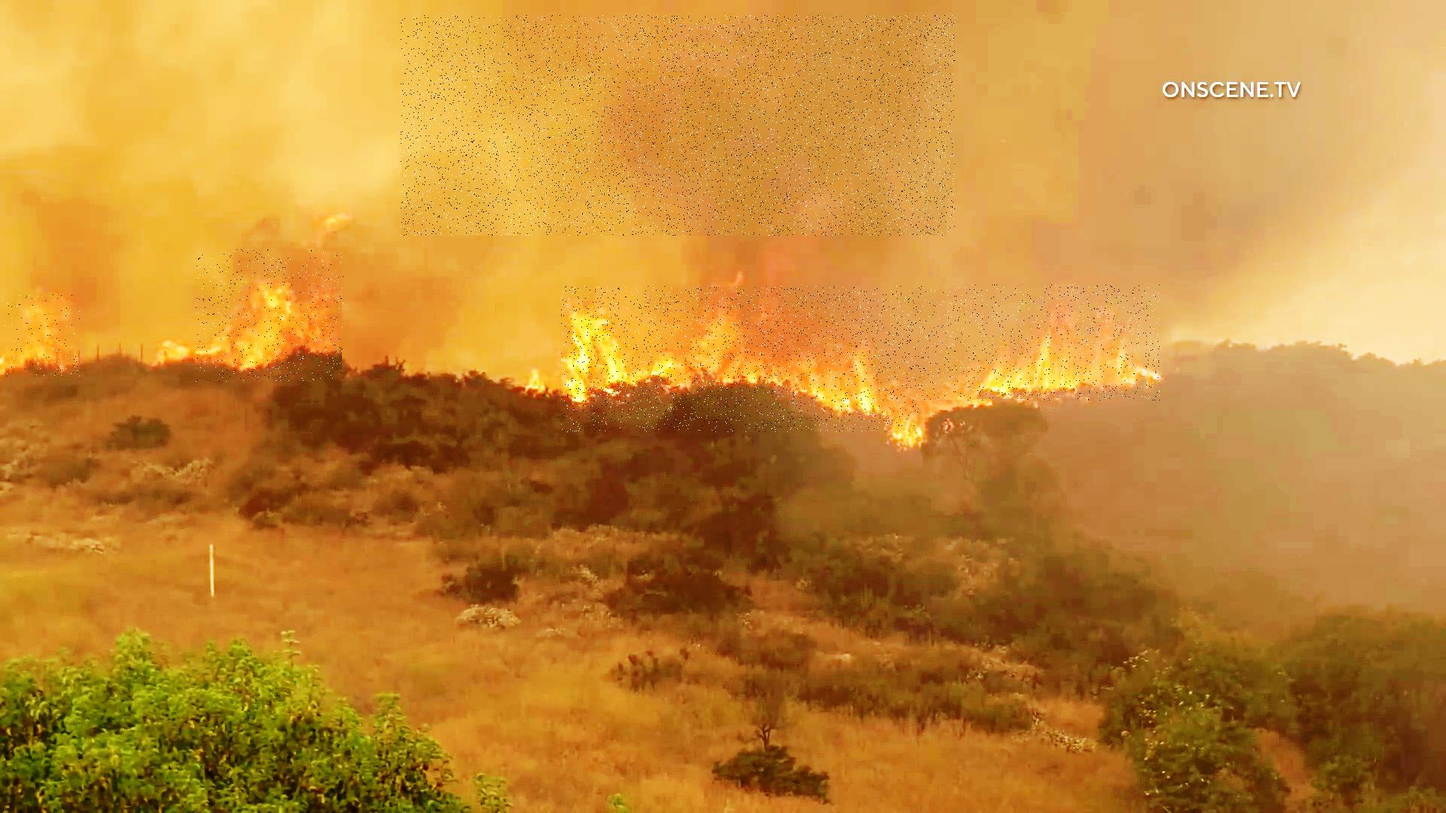fire: (562, 286, 919, 432), (913, 285, 1160, 401), (196, 248, 344, 382), (5, 293, 80, 377)
smoke: (401, 15, 956, 236)
